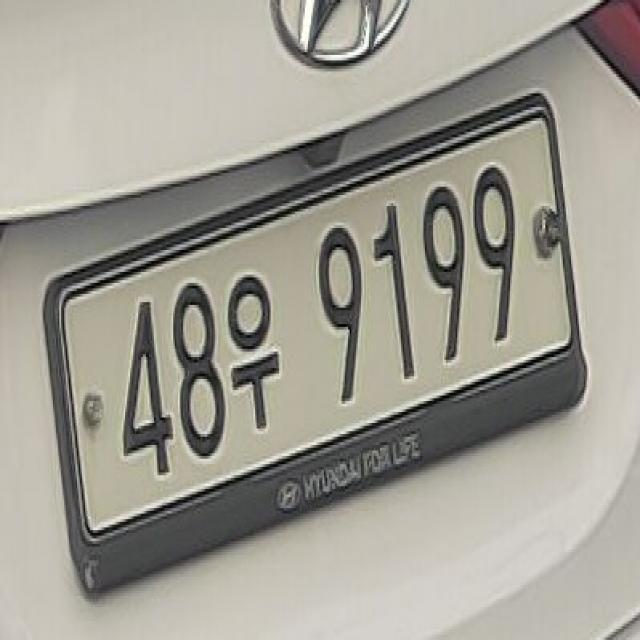1: (366, 199, 423, 396)
4: (105, 292, 173, 500)
8: (168, 276, 228, 468)
9: (308, 212, 370, 410), (469, 159, 522, 350), (420, 176, 467, 370)
license_plate: (23, 65, 608, 635)
u: (223, 264, 284, 452)
